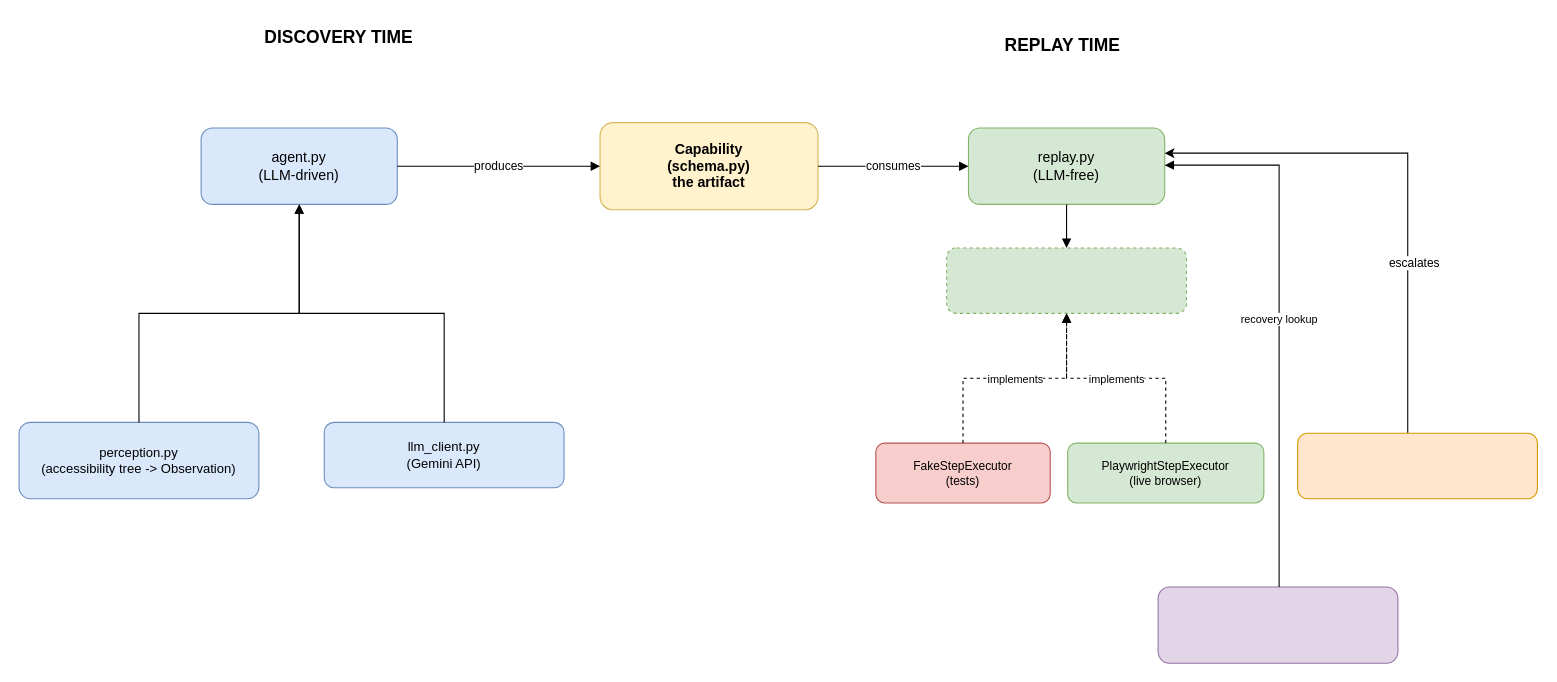
This 1557x682 diagram has some shape labels left out. The centre of each missing label's shape, as x and y in pixels:
EscalationHandler (risky steps + hard failures): [1417,465]
recovery.py global rules (app-wide) + local rules (per-artifact): [1277,624]
StepExecutor (Protocol -- the seam): [1066,280]
